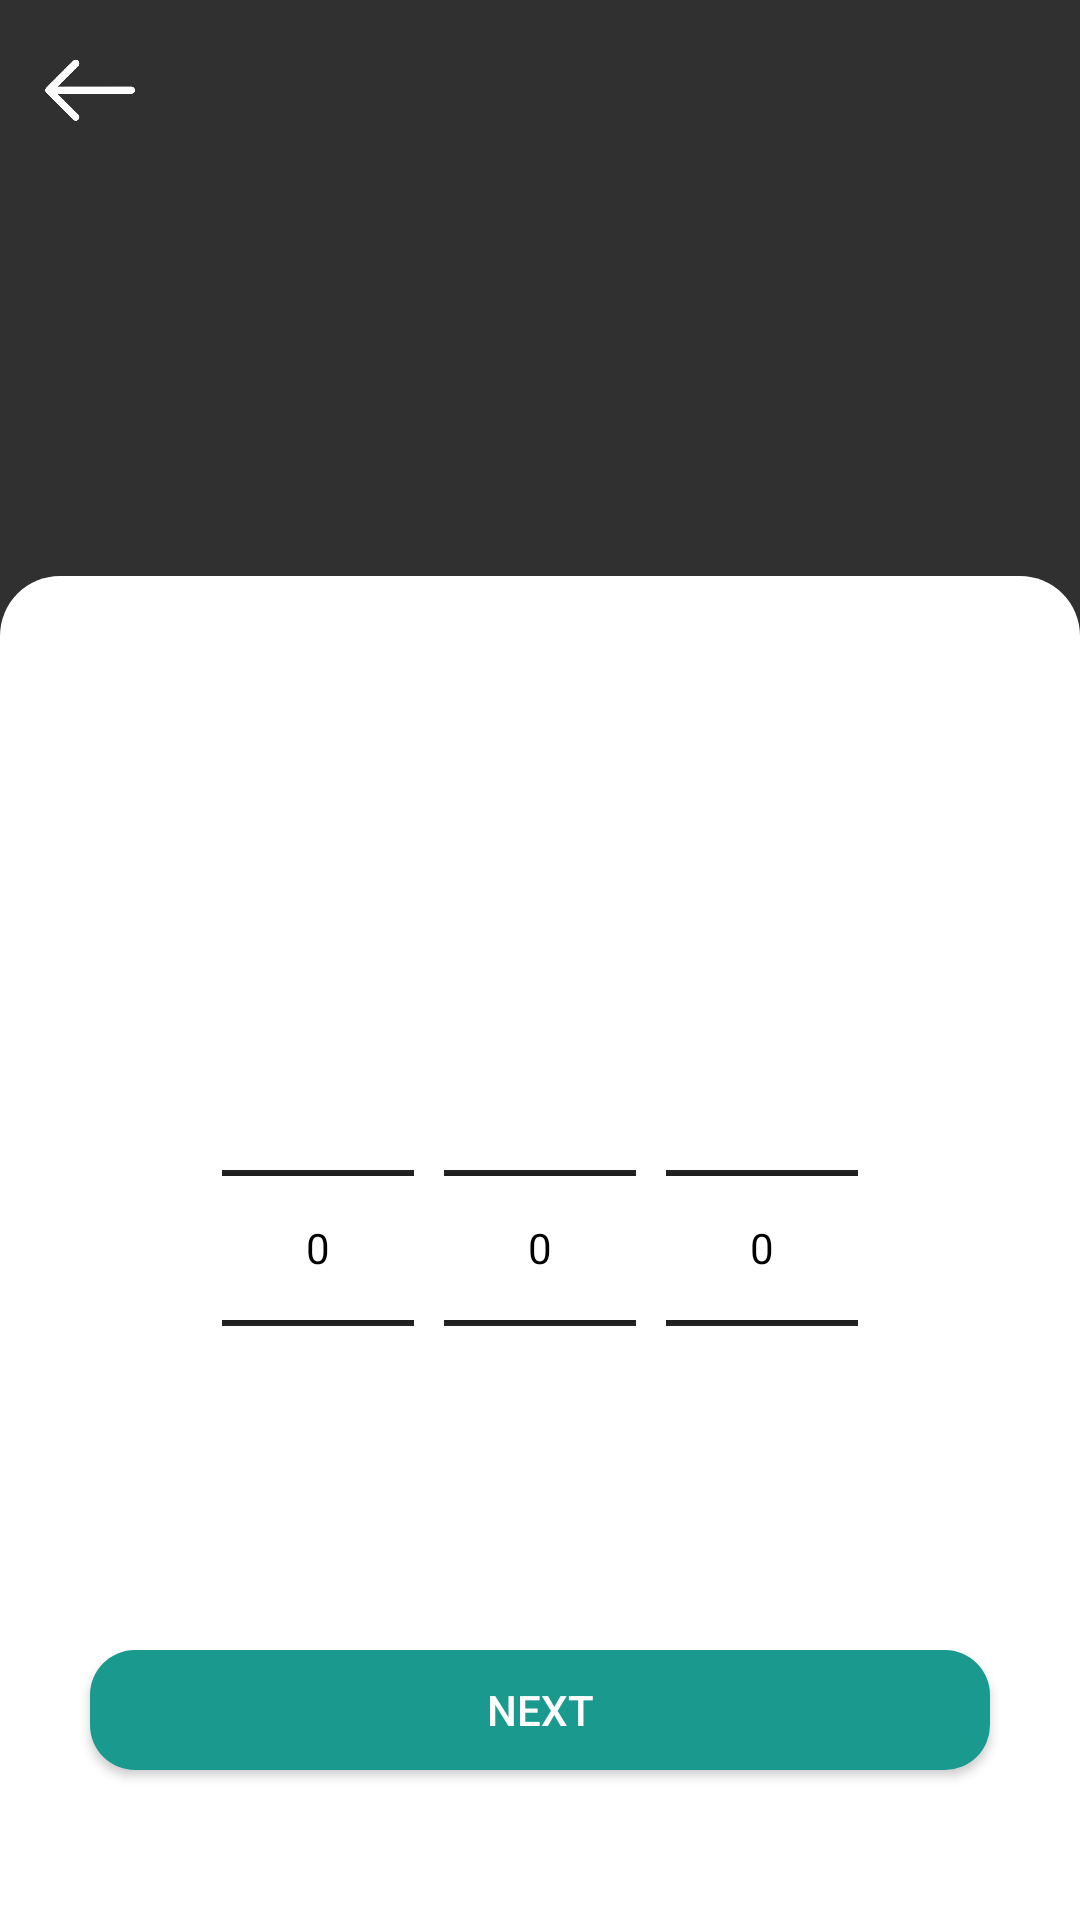

Locate icon controls on the screen. Image size 1080 × 1920, boxes as bbox=[x1, y1, x2, y2].
back: bbox=[45, 59, 135, 121]
